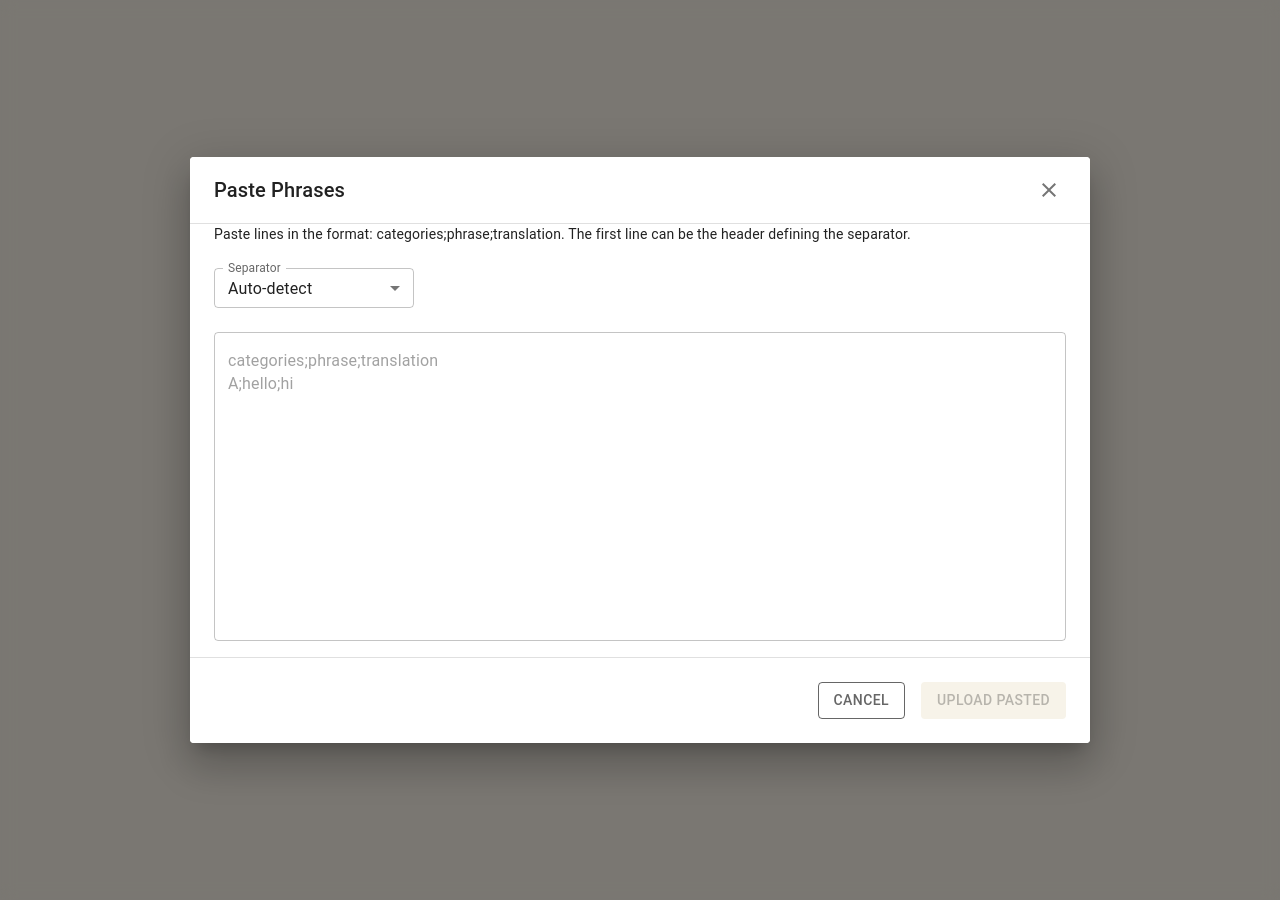
Scenario: PastePhraseDialog › instructions display <TAB> when tab separator is selected
// Select Tab as separator
Press the mouse on the dropdown named "separator" at (270, 288), box [228,279,312,298]
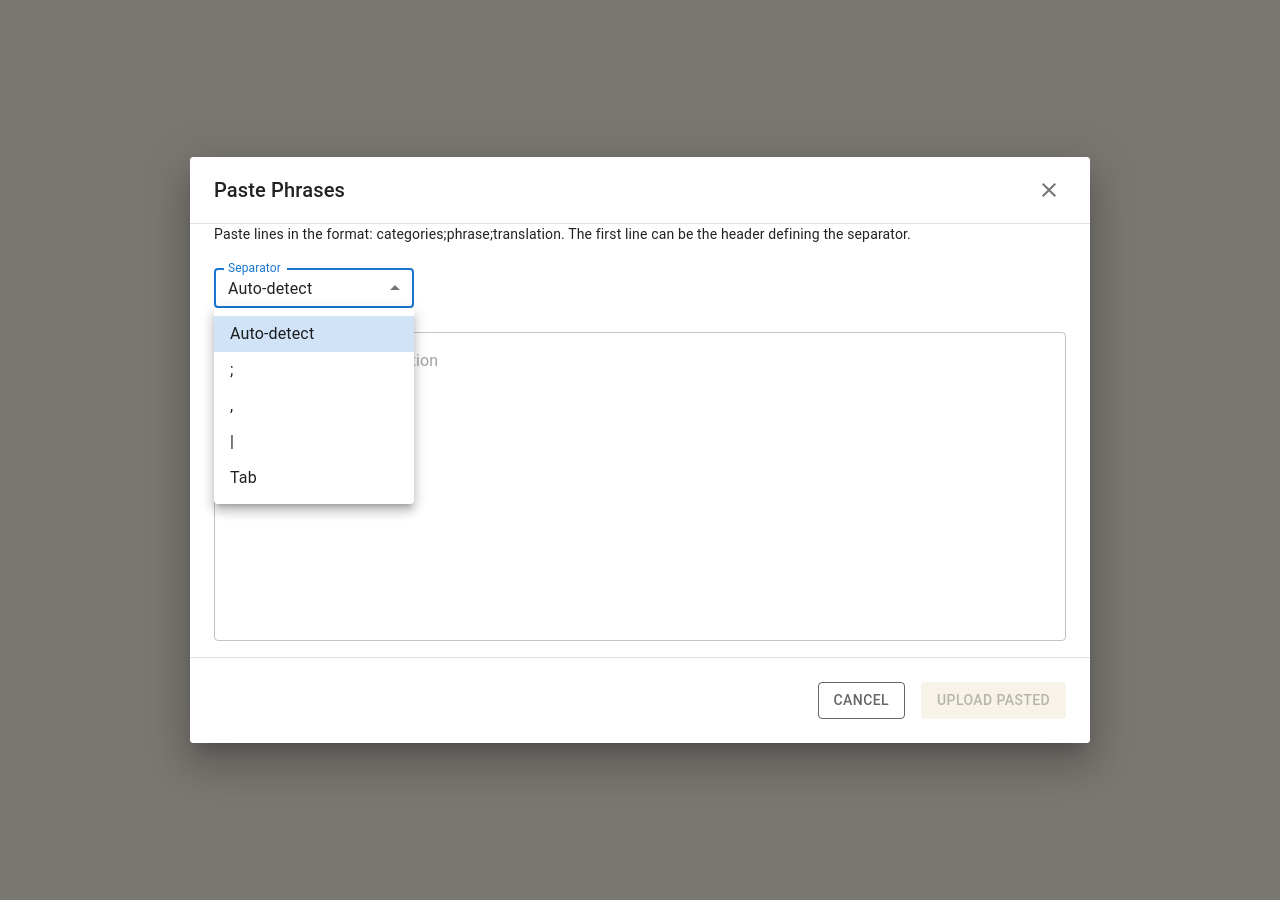
Click the option "Tab". click: (243, 478)
box: [230,468,257,487]
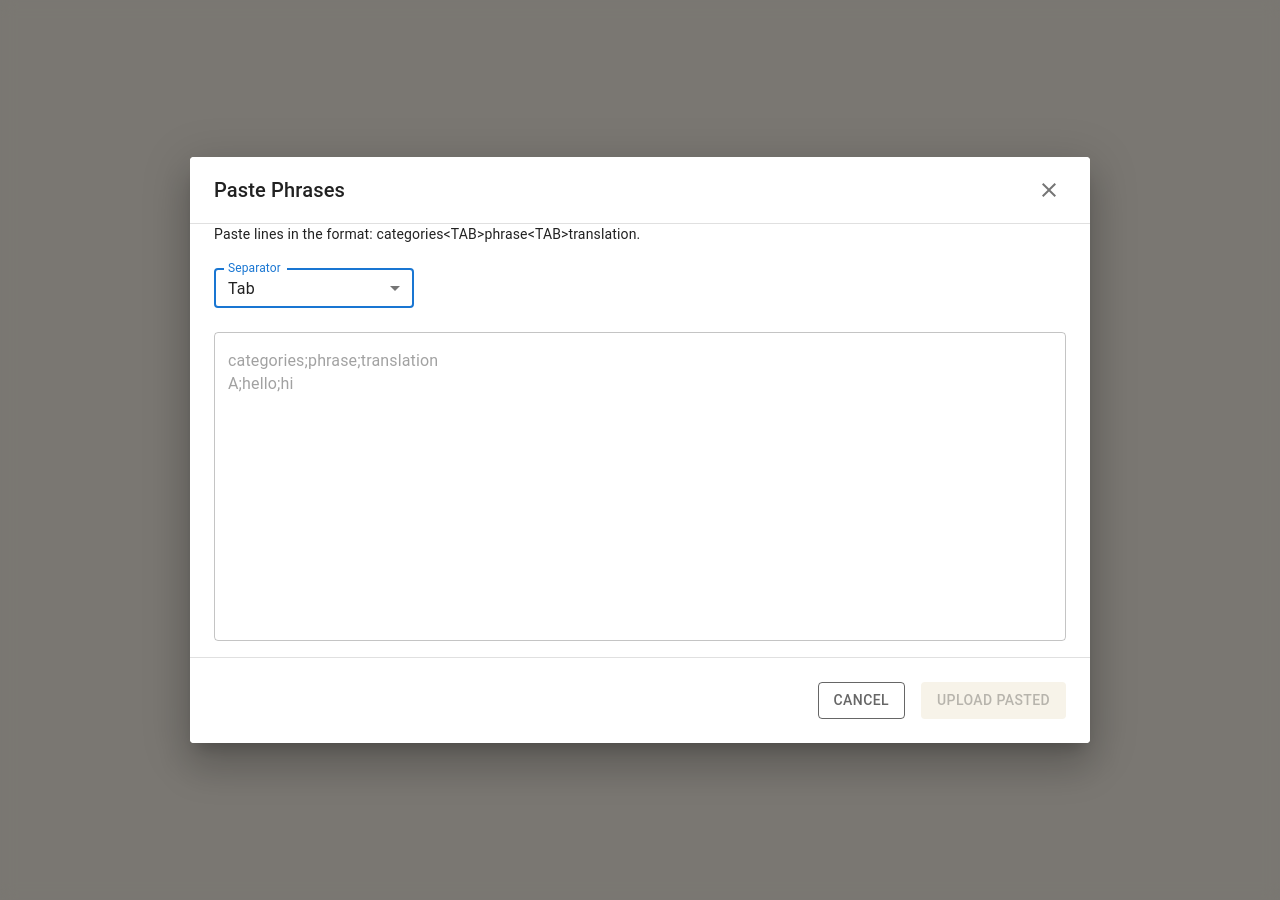
Now the text "categories<TAB>phrase<TAB>translation" is shown, box [214,226,640,242]
